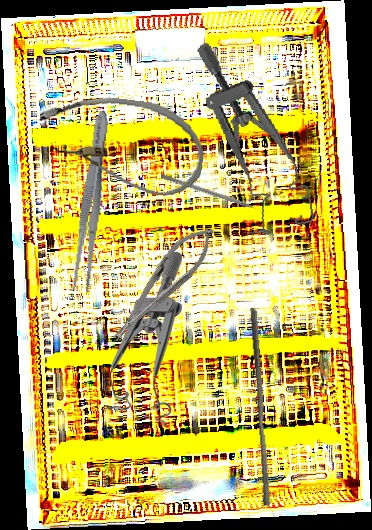Cannula: (32, 89, 209, 200)
Dressing Forceps: (68, 109, 115, 294)
Needle Holder: (101, 216, 224, 351)
Pusher: (242, 306, 278, 507), (160, 173, 270, 217)
Speculum: (194, 28, 317, 244), (108, 252, 182, 426)
